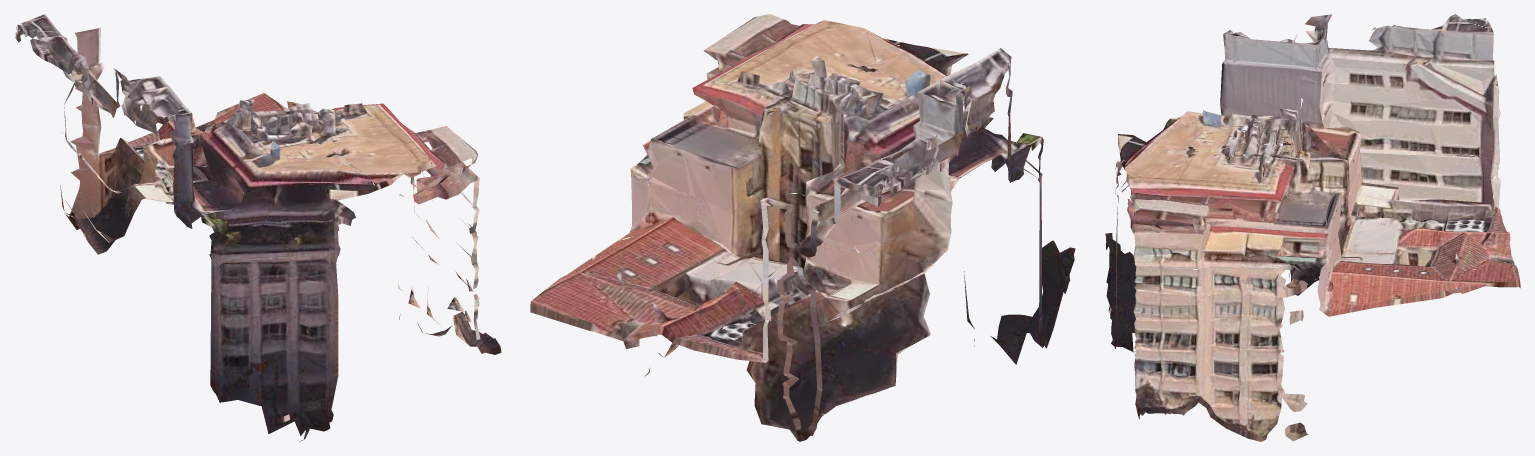
3 views of the same model, side by side, from view 1: azimuth 30°, elevation 25°; view 2: azimuth 150°, elevation 25°; view 3: azimuth 270°, elevation 25° (orthographic). The views are drawn at different scales.
Parts seen in each view (by area): view 1: Mesh_0; view 2: Mesh_0; view 3: Mesh_0.
Part boxes in pixels (x1,y1,x2,y2): Mesh_0: (15, 14, 501, 441); Mesh_0: (530, 14, 1075, 441); Mesh_0: (1105, 14, 1520, 441).
Bounding box in the file's own units: 33.72 × 32.81 × 41.21.
1 material, 1 textured.
